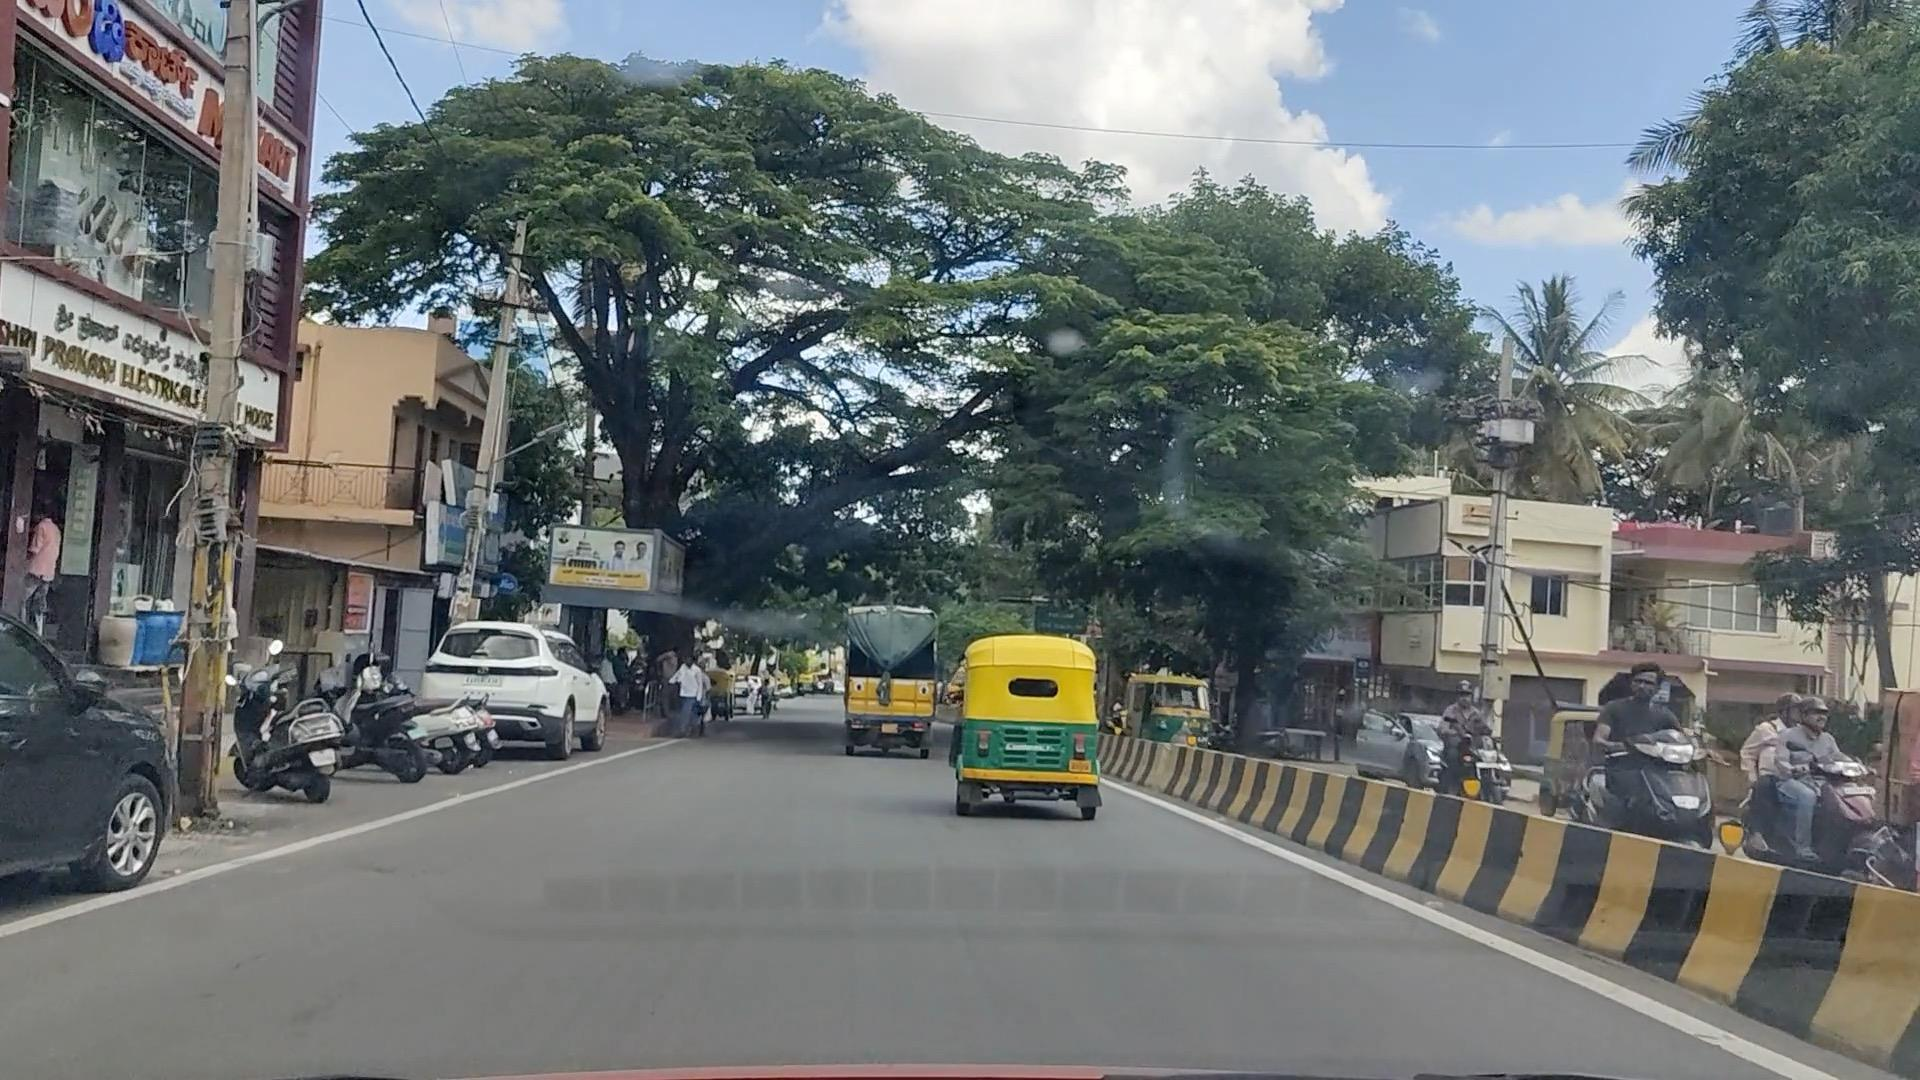HMV: (845, 602, 935, 748)
LMV: (965, 640, 1095, 807)
